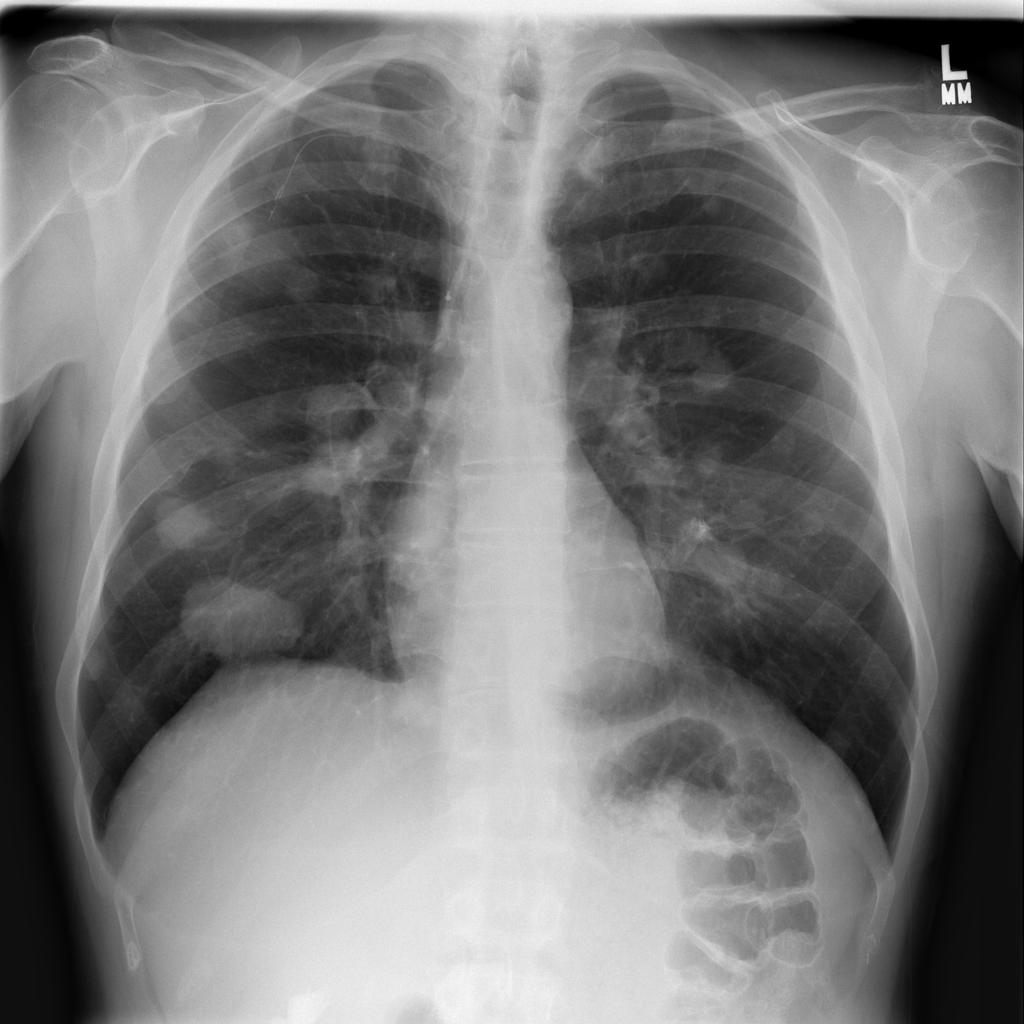nodule: (161, 553, 317, 687), (141, 488, 229, 561), (679, 521, 759, 595), (293, 436, 376, 506), (199, 198, 274, 273), (295, 371, 374, 442), (61, 631, 132, 704), (652, 319, 723, 391), (612, 233, 687, 300), (674, 340, 748, 407), (752, 407, 822, 476), (153, 281, 227, 345), (266, 252, 336, 316), (680, 425, 745, 493), (788, 489, 838, 541), (721, 486, 773, 535), (688, 176, 742, 222)
